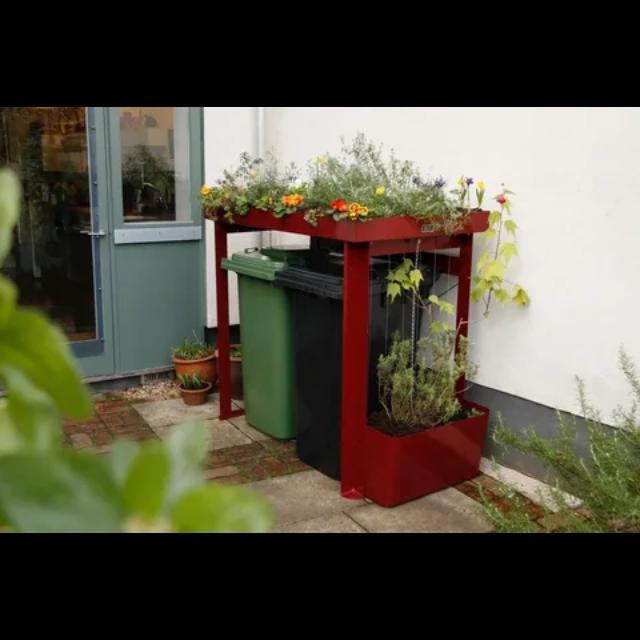Trash_Can_Closed: (275, 260, 441, 481), (221, 247, 330, 440)
